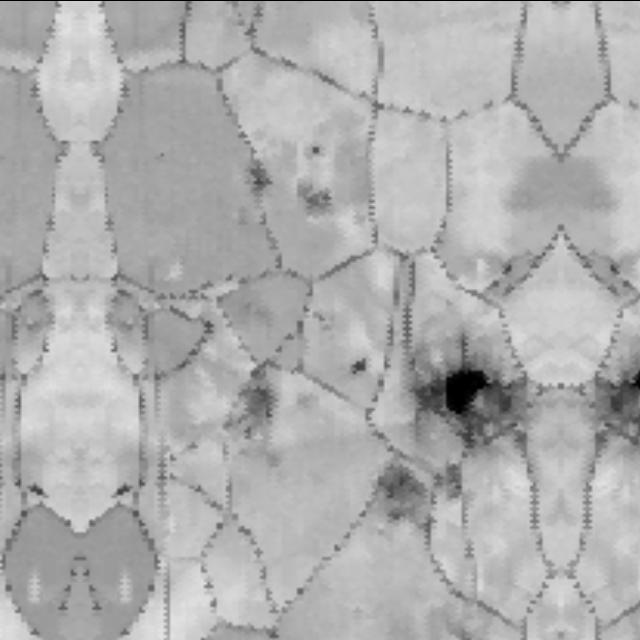good_void: (420, 335, 506, 439), (226, 372, 283, 444), (366, 457, 426, 519), (292, 172, 346, 229), (590, 247, 638, 299), (482, 245, 529, 298), (430, 600, 491, 640), (238, 156, 278, 205), (429, 460, 462, 500), (303, 295, 336, 328), (343, 348, 375, 380), (106, 476, 138, 501), (21, 476, 52, 501), (302, 135, 323, 158), (182, 437, 203, 458), (166, 451, 178, 464)
